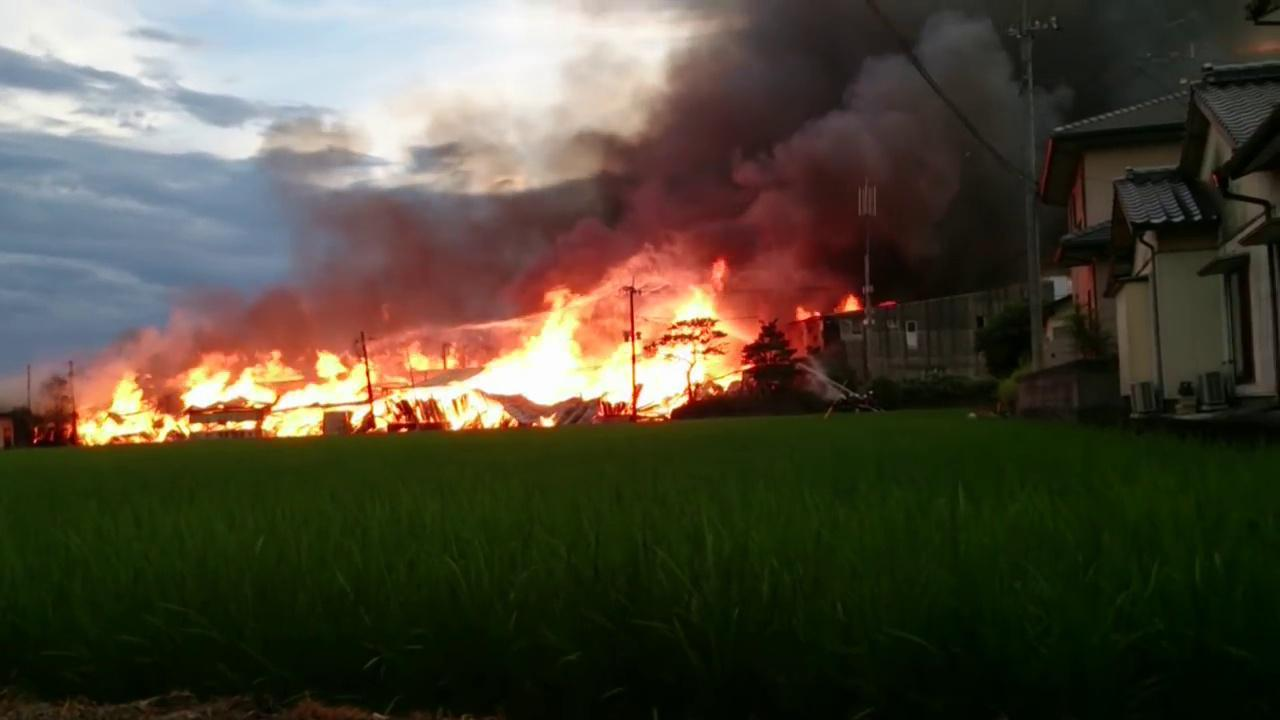Fire: (77, 262, 748, 445), (834, 294, 865, 318), (799, 304, 821, 322)
